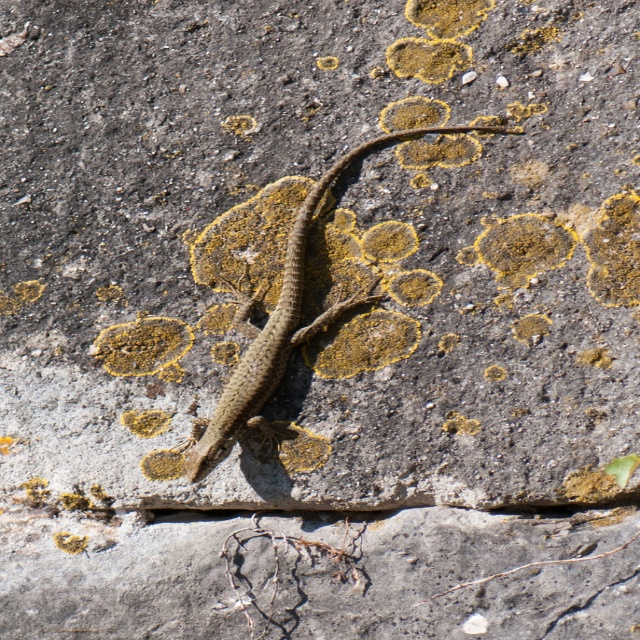Lizard: (179, 124, 508, 480)
